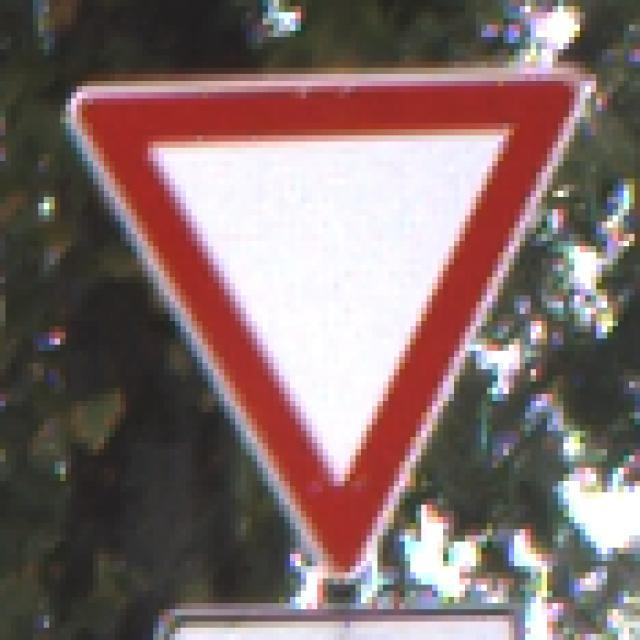give way: (58, 75, 588, 587)
